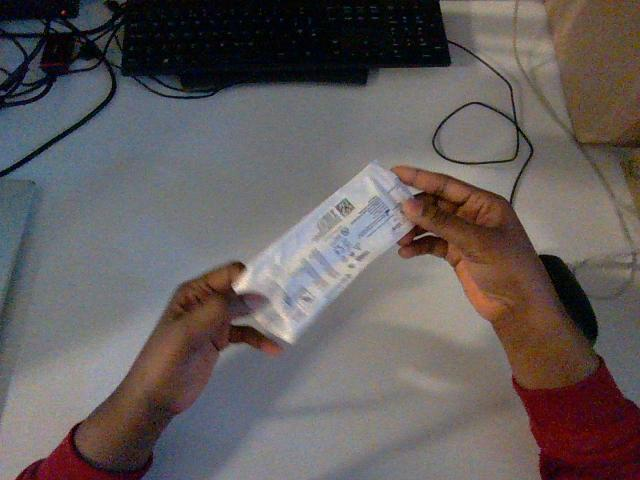syringe: (234, 162, 412, 342)
